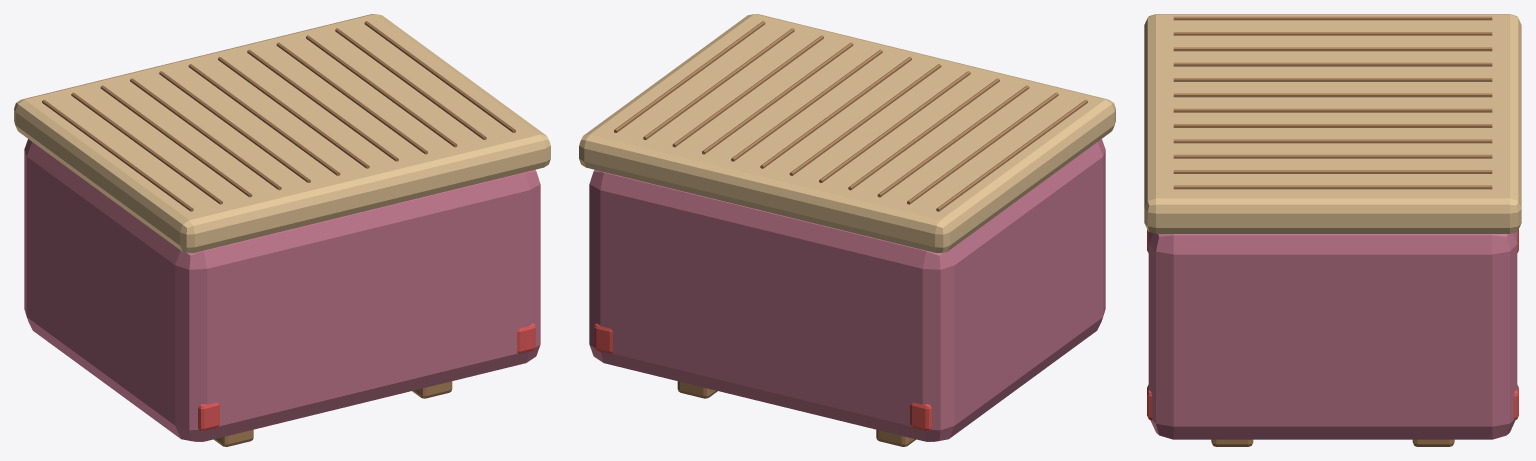
The model's file is woodwork_kotatsu.glb.
3 views of the same model, side by side, from view 1: azimuth 30°, elevation 25°; view 2: azimuth 150°, elevation 25°; view 3: azimuth 270°, elevation 25° (orthographic). The views are drawn at different scales.
Parts seen in each view (by area): view 1: Warm quilt draped on kotatsu, Heavy polished kotatsu tabletop, Top cedar grain.002, Top cedar grain.005, Top cedar grain.007, Top cedar grain, Top cedar grain.001, Top cedar grain.003, Top cedar grain.004, Top cedar grain.006, Top cedar grain.009, Top cedar grain.010 (+3 smaller); view 2: Warm quilt draped on kotatsu, Heavy polished kotatsu tabletop, Top cedar grain.002, Top cedar grain.005, Top cedar grain.007, Top cedar grain, Top cedar grain.001, Top cedar grain.003, Top cedar grain.004, Top cedar grain.006, Top cedar grain.009, Top cedar grain.010 (+3 smaller); view 3: Warm quilt draped on kotatsu, Heavy polished kotatsu tabletop, Top cedar grain.002, Top cedar grain.003, Top cedar grain.005, Top cedar grain.006, Top cedar grain.008, Top cedar grain.009, Top cedar grain.011, Top cedar grain, Top cedar grain.001, Top cedar grain.004 (+2 smaller).
Part boxes in pixels (x1,y1,x2,y2): Warm quilt draped on kotatsu: (24,139,540,441); Heavy polished kotatsu tabletop: (14,14,550,253); Top cedar grain.002: (100,85,252,197); Top cedar grain.005: (188,64,340,175); Top cedar grain.007: (247,49,398,161); Top cedar grain: (42,100,193,211); Top cedar grain.001: (71,92,222,204); Top cedar grain.003: (130,78,281,190); Top cedar grain.004: (159,71,310,182); Top cedar grain.006: (218,57,369,168); Top cedar grain.009: (306,35,457,147); Top cedar grain.010: (335,28,486,139); Warm quilt draped on kotatsu: (589,139,1105,441); Heavy polished kotatsu tabletop: (579,14,1115,253); Top cedar grain.002: (877,85,1029,197); Top cedar grain.005: (789,64,941,175); Top cedar grain.007: (731,49,882,161); Top cedar grain: (936,100,1087,211); Top cedar grain.001: (907,92,1058,204); Top cedar grain.003: (848,78,999,190); Top cedar grain.004: (819,71,970,182); Top cedar grain.006: (760,57,911,168); Top cedar grain.009: (672,35,823,147); Top cedar grain.010: (643,28,794,139); Warm quilt draped on kotatsu: (1148,232,1517,439); Heavy polished kotatsu tabletop: (1144,14,1521,233); Top cedar grain.002: (1173,47,1492,51); Top cedar grain.003: (1173,62,1492,66); Top cedar grain.005: (1173,93,1492,97); Top cedar grain.006: (1173,108,1492,112); Top cedar grain.008: (1173,139,1492,143); Top cedar grain.009: (1173,154,1492,158); Top cedar grain.011: (1173,185,1492,189); Top cedar grain: (1173,16,1492,20); Top cedar grain.001: (1173,32,1492,35); Top cedar grain.004: (1173,78,1492,81).
Size of the model in its own units: 1.95 by 1.34 by 1.61.
